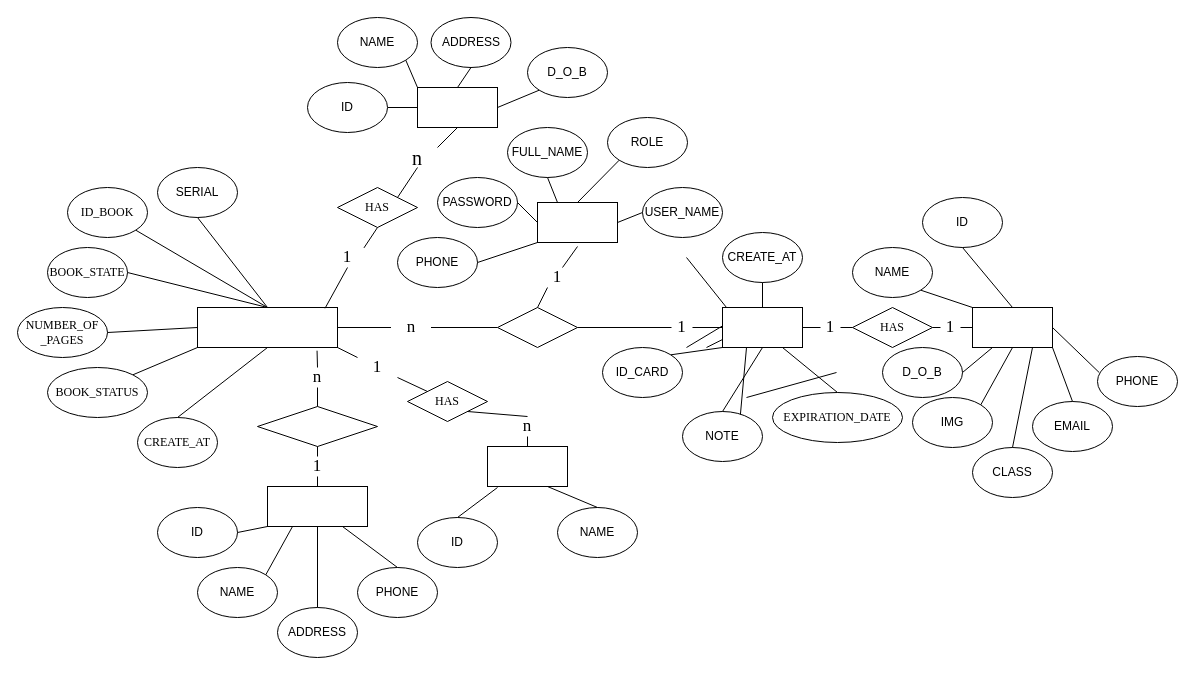
This 1195x675 diagram has some shape labels left out. The shapes that lost their labels are listed below. From the top down, each one's centre as x and y in pixels, then its label:
the point at 457,107: AUTHOR
the point at 577,222: ACCOUNT
the point at 267,327: BOOK
the point at 537,327: BORROW
the point at 762,327: LIBRARY CARD
the point at 1012,327: STUDENT
the point at 317,426: PUBLISHED BY
the point at 527,466: TAG
the point at 317,506: PUBLISH_HOUSE
